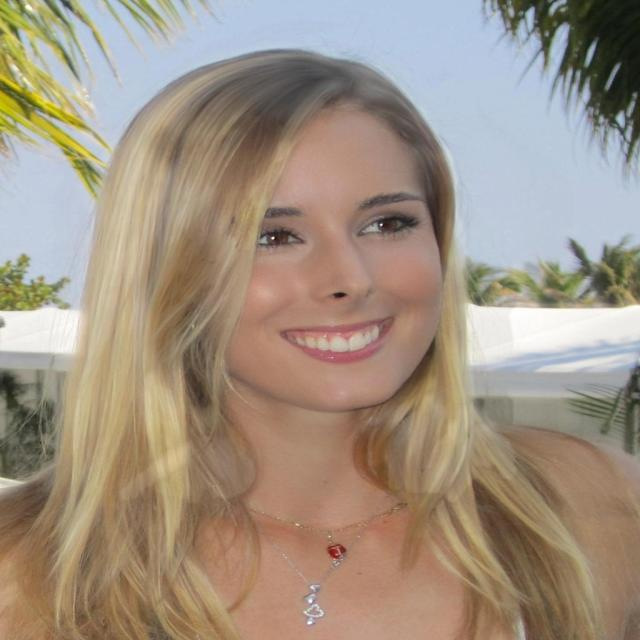Face: (178, 101, 468, 419)
